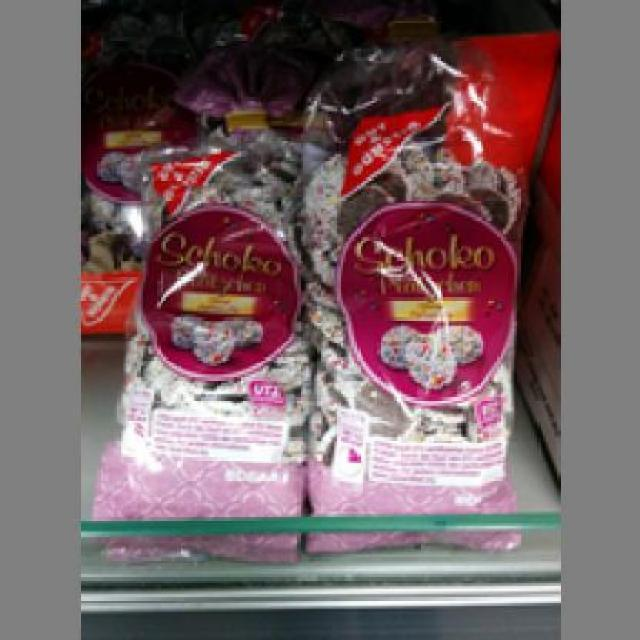Chocolate: (303, 52, 526, 554), (94, 152, 306, 558)
